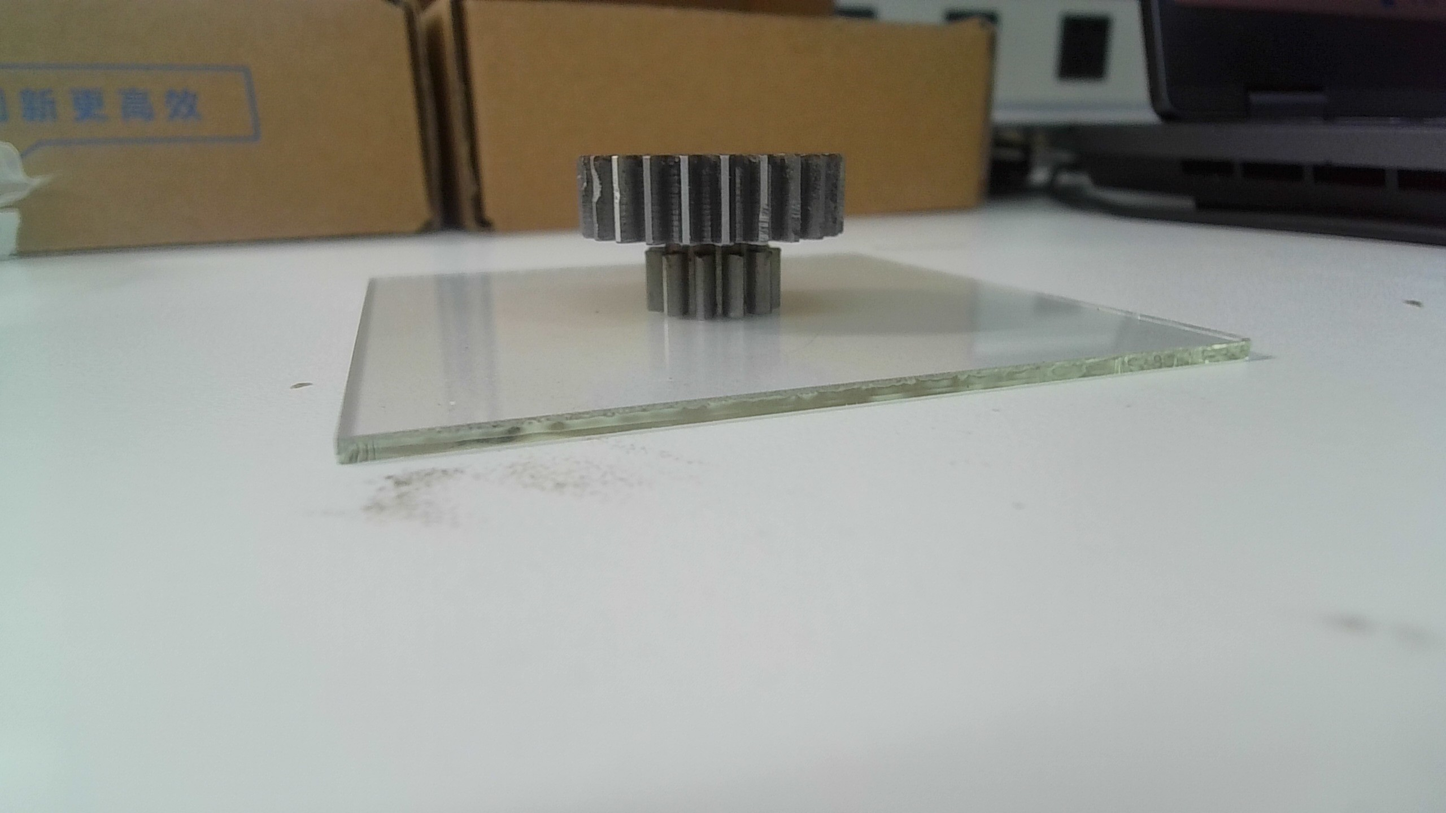gear: (573, 148, 848, 318)
